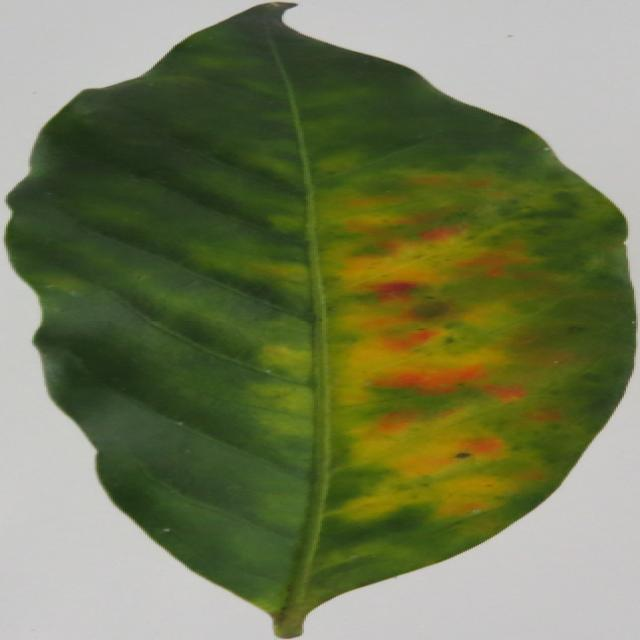DeficienciaNutricional-Fosforo: (8, 2, 634, 637)
